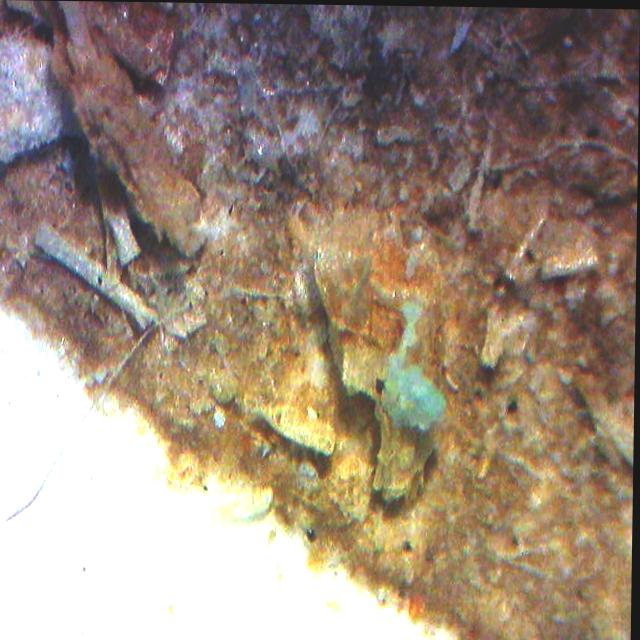microplastic: (383, 365, 447, 430)
